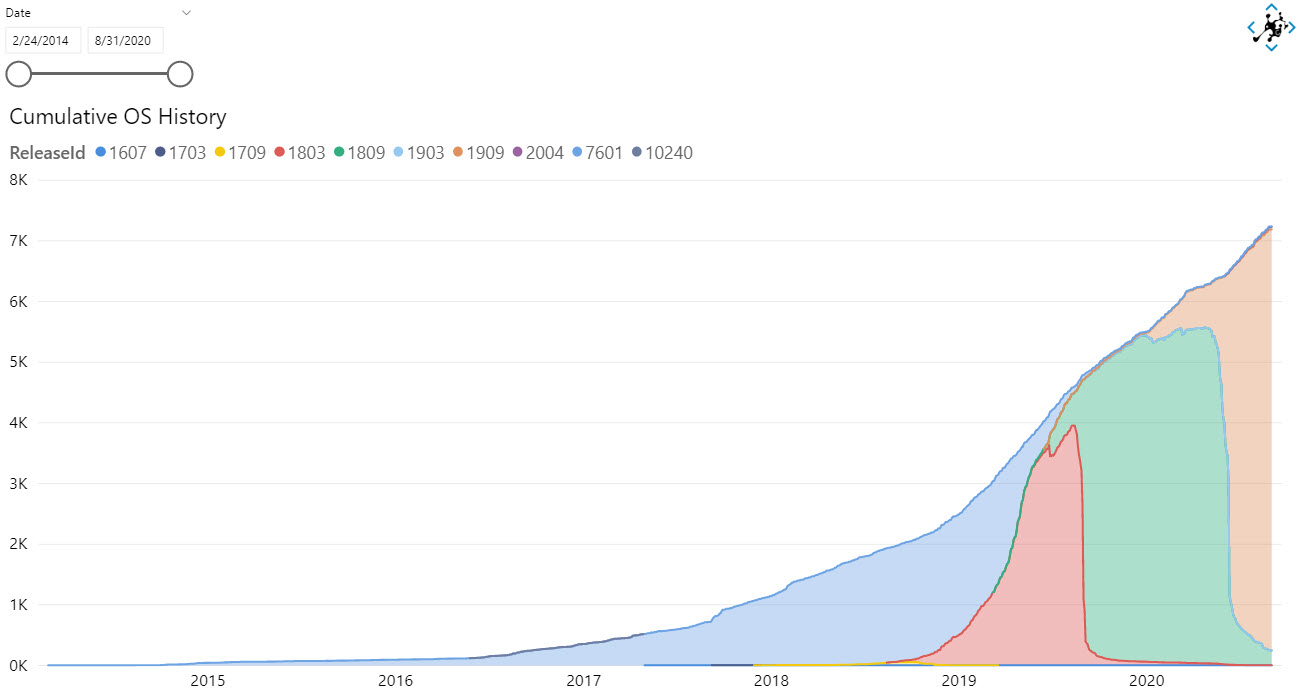

The page's visual inventory and layout, read from the dashboard file:
{"tool":"powerbi","page":{"name":"Cumulative OS History","canvas":[1280,720],"ordinal":2},"visuals":[{"type":"stackedAreaChart","title":"Cumulative OS History","fields":{"Category":["Calendar.Date"],"Y":["Count(OSHistory.ResourceID)"],"Series":["OSHistory.DisplayVersion"]},"box":[11.9,99.3,1256.2,585.2],"z":0},{"type":"slicer","fields":{"Values":["Calendar.Date"]},"box":[0,0,206.9,99.3],"z":1000},{"type":"image","box":[1207.6,0,72.4,56.9],"z":2000}]}

Visuals, with their boxes on the page's 1280x720 design canvas (x1, y1, x2, y2). These are canvas units, not pixel positions in the 1297x691 screenshot, which may show the page scaled, cropped or inside an application window:
"Cumulative OS History" stackedAreaChart: 12/99/1268/684
slicer - Calendar.Date: 0/0/207/99
image: 1208/0/1280/57
